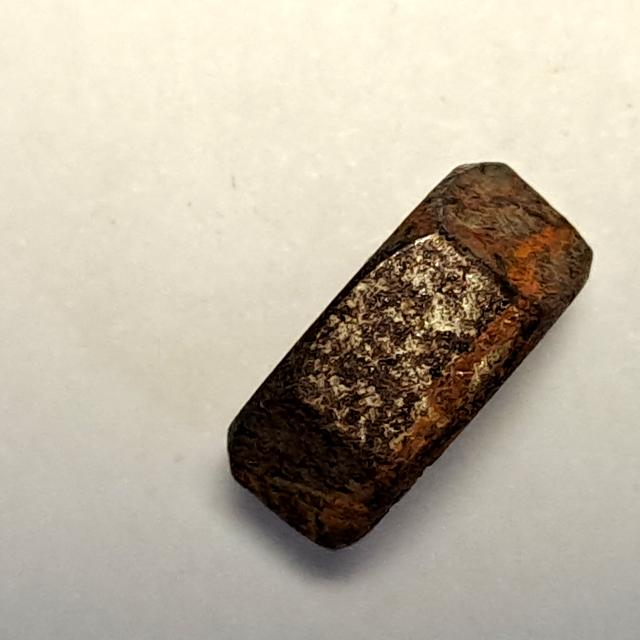Side_Rust: (211, 143, 608, 576)
